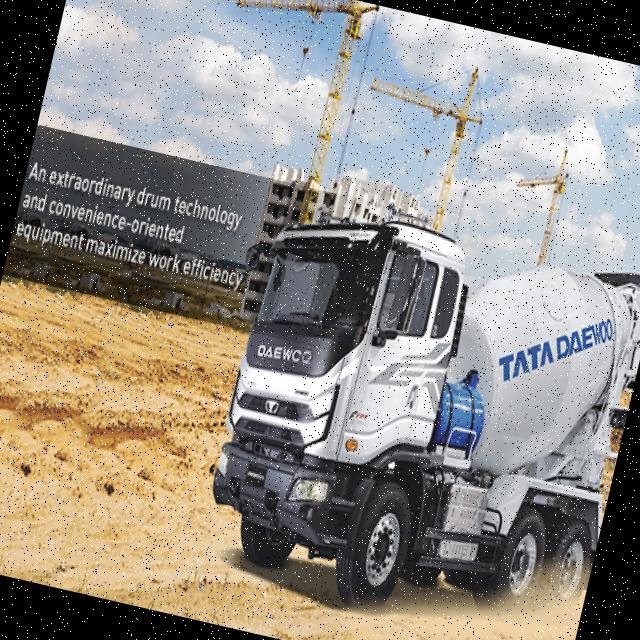Mixer Truck: (193, 190, 640, 640)
